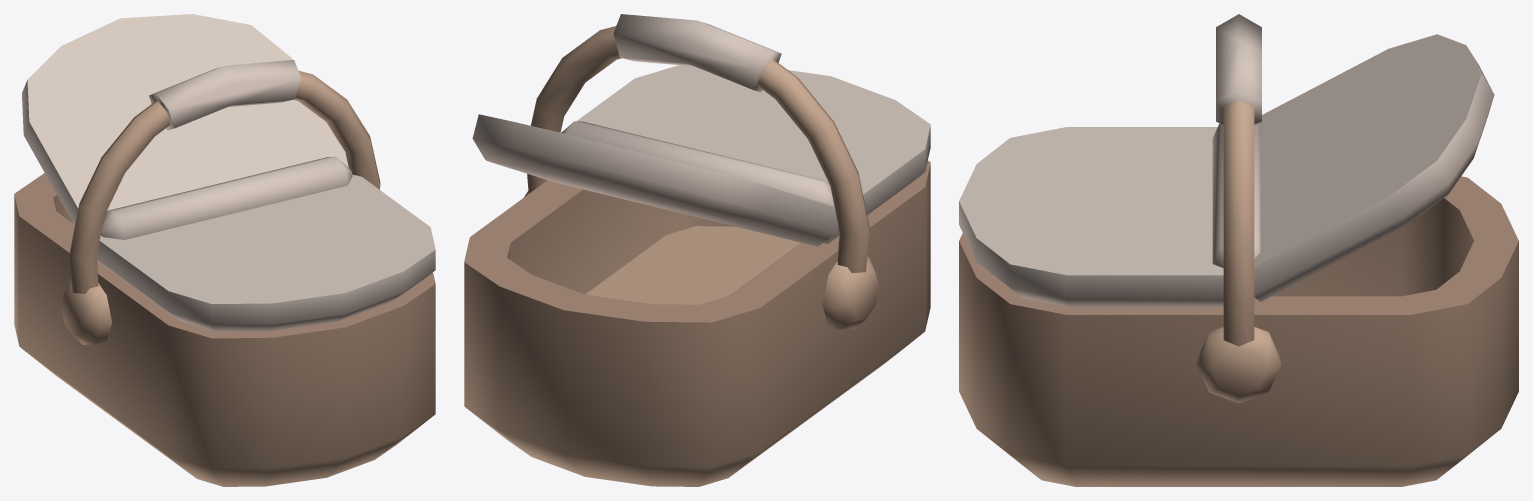
Rendered from picnic-basket.glb.
The picture shows the model from 3 angles, left to right: view 1: azimuth 30°, elevation 25°; view 2: azimuth 150°, elevation 25°; view 3: azimuth 270°, elevation 25°; orthographic projection. The views are drawn at different scales.
Visible parts, largest first — view 1: picnic-basket; view 2: picnic-basket; view 3: picnic-basket.
Boxes of the visible parts, left/top/right/bottom form: picnic-basket: left=14, top=14, right=435, bottom=486; picnic-basket: left=464, top=14, right=930, bottom=486; picnic-basket: left=959, top=14, right=1518, bottom=486.
Bounding box in the file's own units: 0.4735 × 0.4924 × 0.6388.
